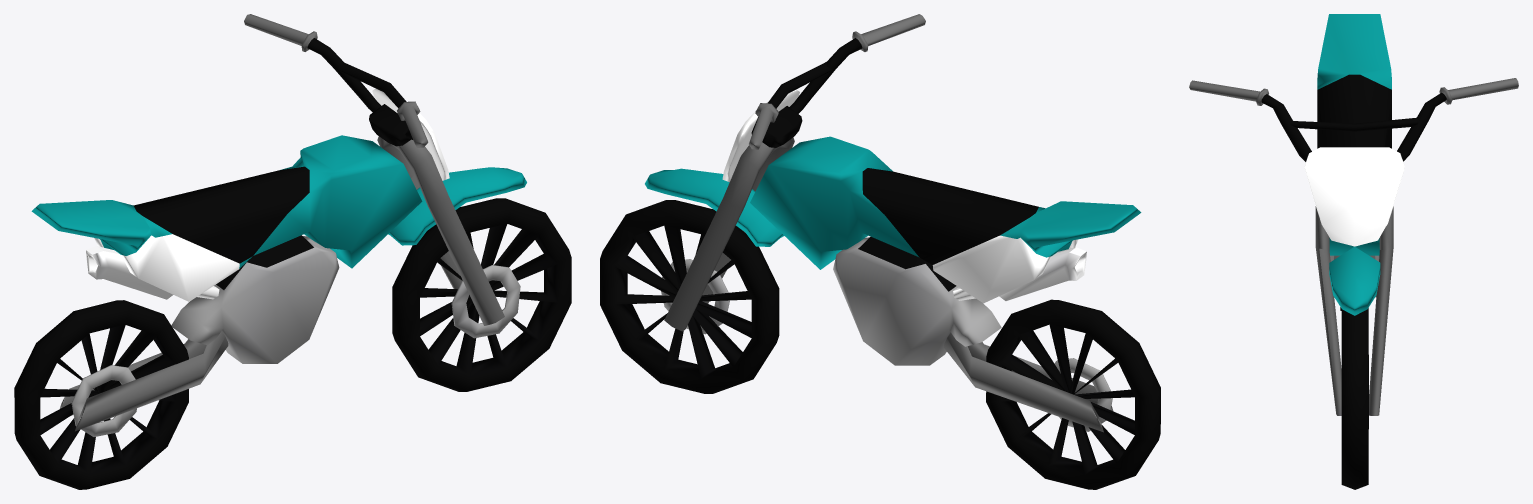
The model's file is DirtBike250ccTeal.glb.
The picture shows the model from 3 angles, left to right: view 1: azimuth 30°, elevation 25°; view 2: azimuth 150°, elevation 25°; view 3: azimuth 270°, elevation 25°; orthographic projection. The views are drawn at different scales.
Parts seen in each view (by area): view 1: DirtBike250ccTeal; view 2: DirtBike250ccTeal; view 3: DirtBike250ccTeal.
Boxes of the visible parts, x1,y1,x2,y2 form: DirtBike250ccTeal: (14,14,571,489); DirtBike250ccTeal: (600,14,1160,489); DirtBike250ccTeal: (1189,14,1518,489).
Size of the model in its own units: 2.46 by 1.49 by 1.33.
Materials: 1 (1 with a texture image).
